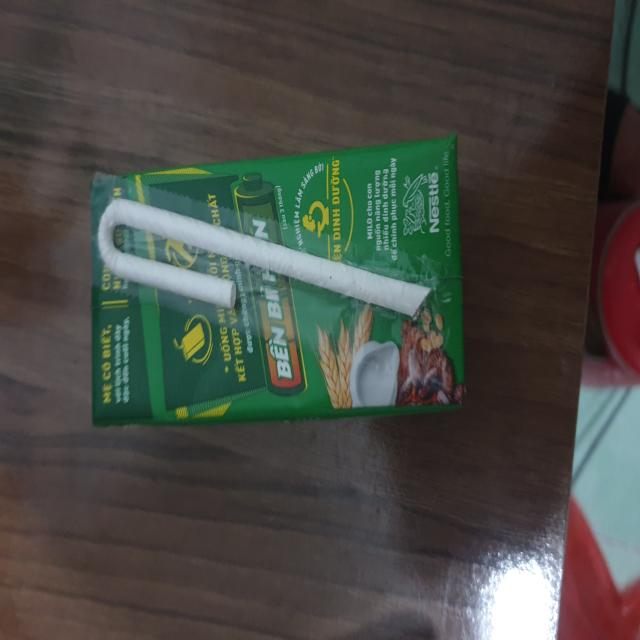Milo: (92, 138, 474, 430)
